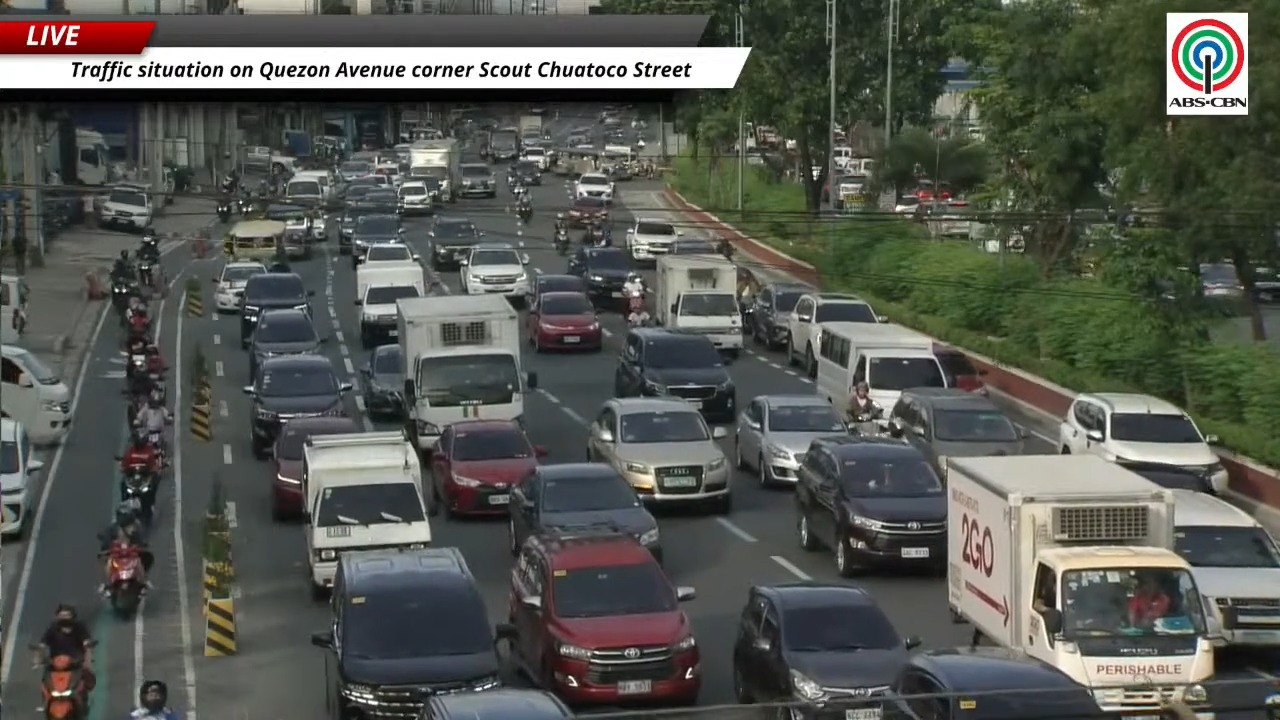car: (498, 528, 701, 704), (311, 547, 501, 718), (733, 581, 920, 716), (795, 436, 946, 576), (872, 646, 1103, 719), (1173, 489, 1279, 648), (1058, 393, 1228, 492), (587, 397, 731, 513), (508, 463, 661, 560), (887, 387, 1027, 472), (614, 328, 736, 422), (429, 419, 546, 515), (243, 355, 351, 459), (735, 394, 847, 486), (271, 416, 360, 520), (786, 293, 884, 377), (240, 272, 313, 348), (0, 417, 43, 537), (249, 309, 322, 377), (417, 687, 572, 719), (526, 292, 603, 351), (746, 283, 812, 348), (460, 243, 529, 302), (566, 247, 632, 302), (360, 344, 404, 417), (428, 215, 484, 270), (351, 214, 403, 268), (213, 261, 266, 312), (934, 344, 987, 394), (97, 183, 152, 231), (1127, 464, 1212, 493), (626, 218, 682, 262), (262, 203, 322, 243), (526, 273, 586, 308), (338, 204, 372, 254), (398, 179, 439, 214), (460, 163, 496, 198), (567, 197, 608, 227), (361, 242, 419, 263), (283, 177, 325, 206), (575, 172, 614, 202), (359, 187, 401, 214), (283, 229, 311, 260), (508, 160, 541, 186), (341, 180, 376, 204), (373, 161, 403, 188), (669, 238, 717, 254), (339, 160, 372, 182), (522, 145, 550, 170), (364, 168, 393, 188), (894, 196, 920, 215)
motorcycle: (40, 654, 88, 719), (104, 545, 144, 618), (120, 465, 156, 524), (847, 406, 884, 436), (111, 279, 138, 314), (624, 288, 645, 326), (149, 369, 166, 404), (126, 351, 146, 378), (1264, 687, 1279, 719), (553, 227, 569, 255), (138, 259, 154, 286), (716, 238, 734, 259), (216, 199, 231, 223), (517, 203, 533, 223), (237, 196, 253, 215)
truck: (945, 455, 1213, 717), (397, 294, 536, 454), (301, 432, 431, 597), (812, 321, 945, 413), (654, 254, 742, 356), (355, 260, 427, 348), (408, 138, 461, 202), (75, 128, 110, 184), (484, 127, 521, 163), (518, 115, 542, 143)
